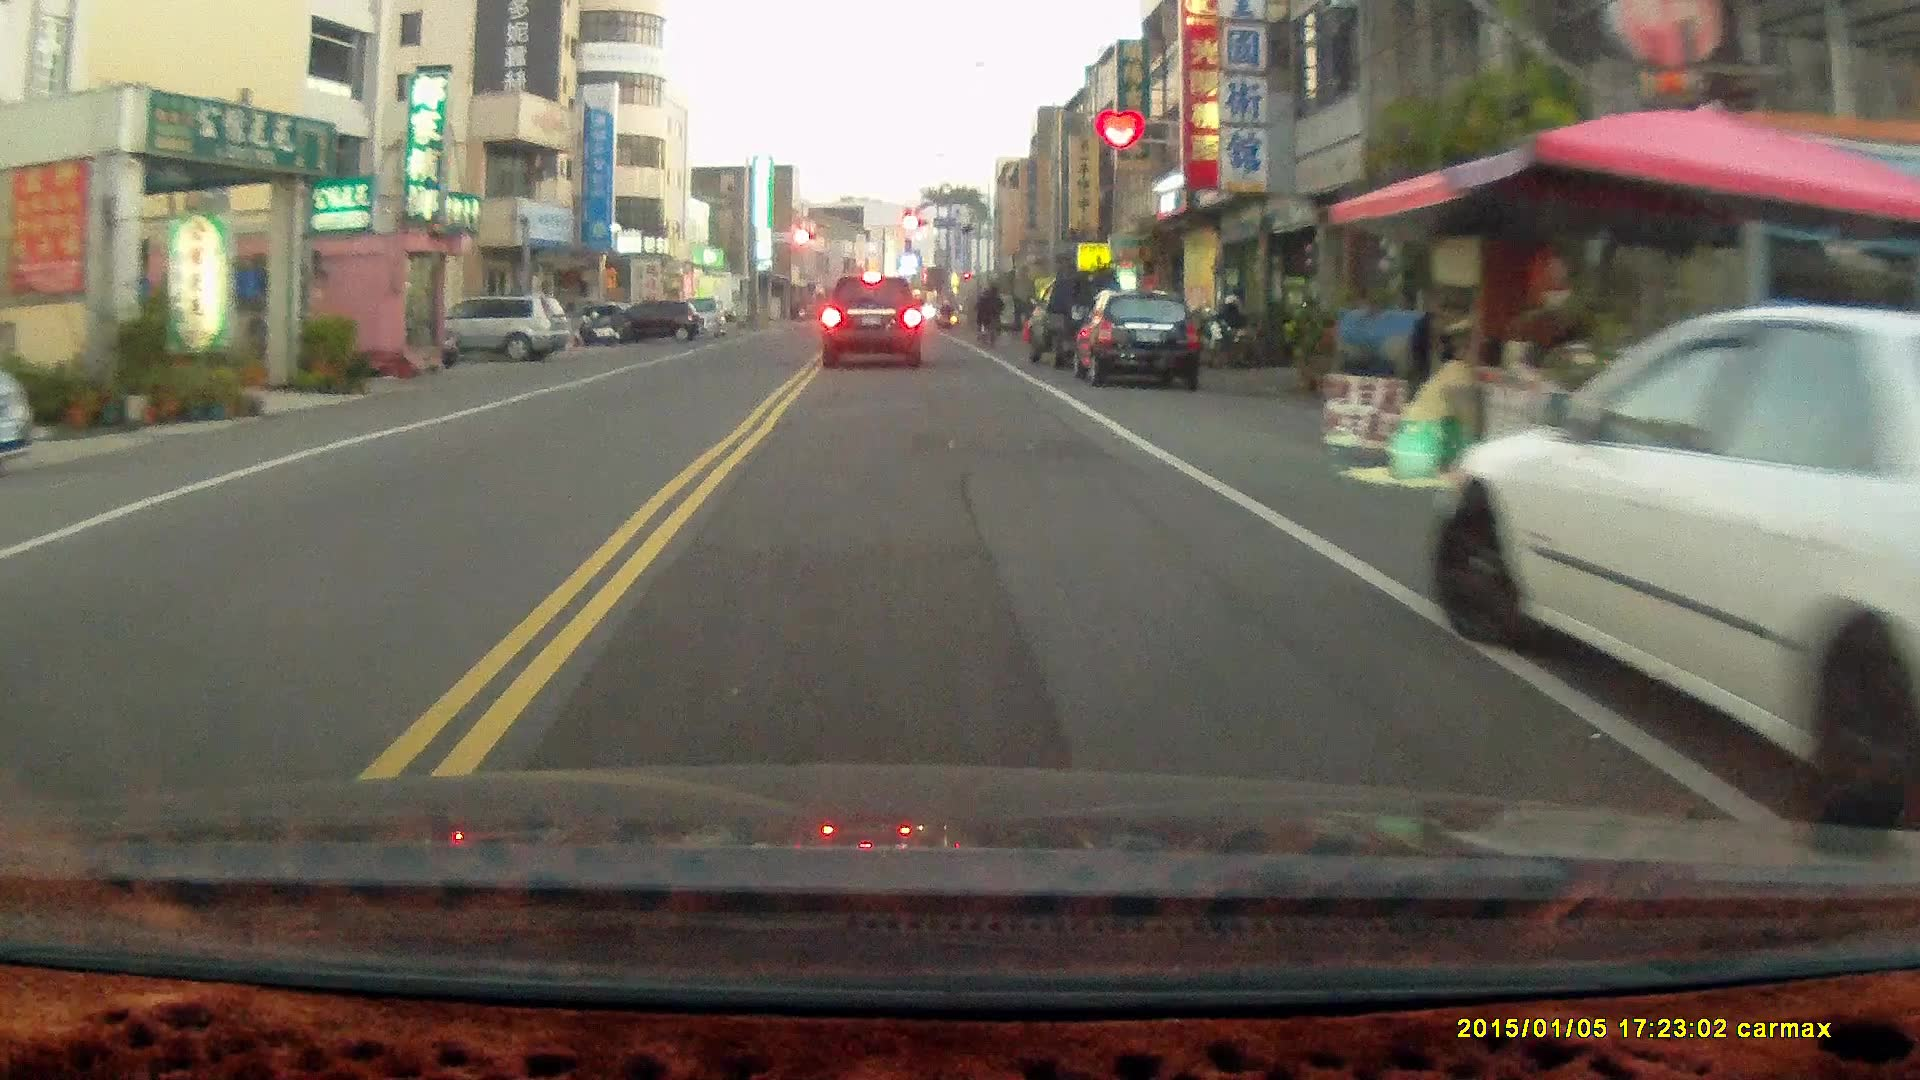rider: (974, 280, 1004, 348)
vehicle: (1441, 294, 1920, 814), (1075, 286, 1207, 391), (405, 298, 571, 367), (819, 272, 925, 371), (592, 297, 701, 346)
